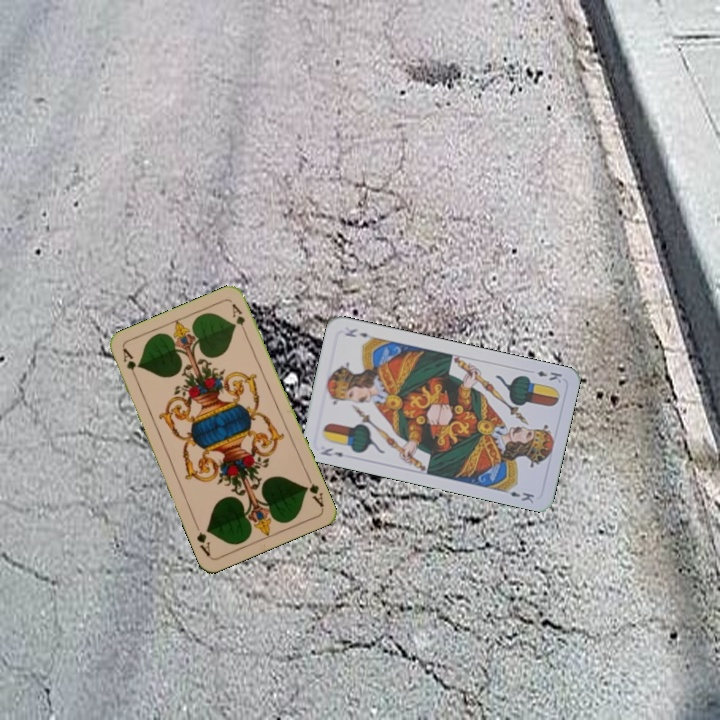EK: (533, 367, 565, 385), (317, 444, 346, 460)
GA: (301, 472, 326, 510), (119, 345, 141, 384)
